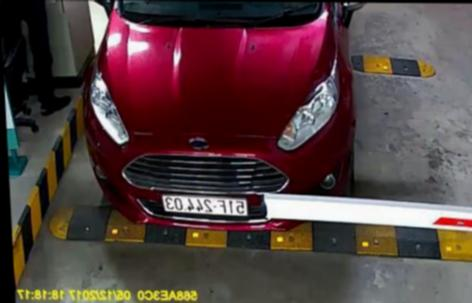License_Plate: (161, 191, 254, 222)
